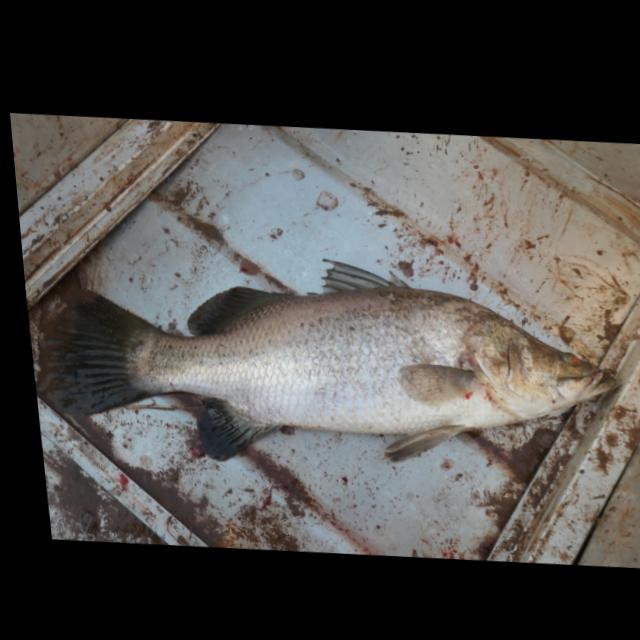Seabass: (30, 234, 632, 491)
